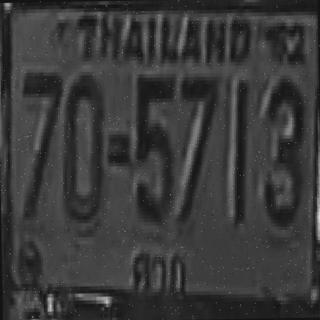N00: (59, 71, 105, 223)
N01: (225, 78, 249, 222), (230, 76, 250, 220)
N03: (260, 75, 304, 223)
N05: (133, 72, 175, 220)
N07: (20, 68, 64, 217), (176, 73, 218, 221)
P69: (126, 234, 190, 302)
